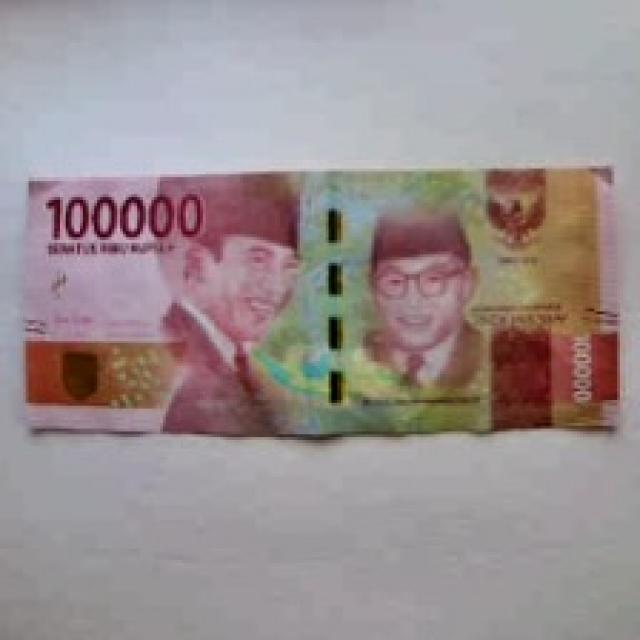lima puluh ribu rupiah: (13, 148, 636, 464)
